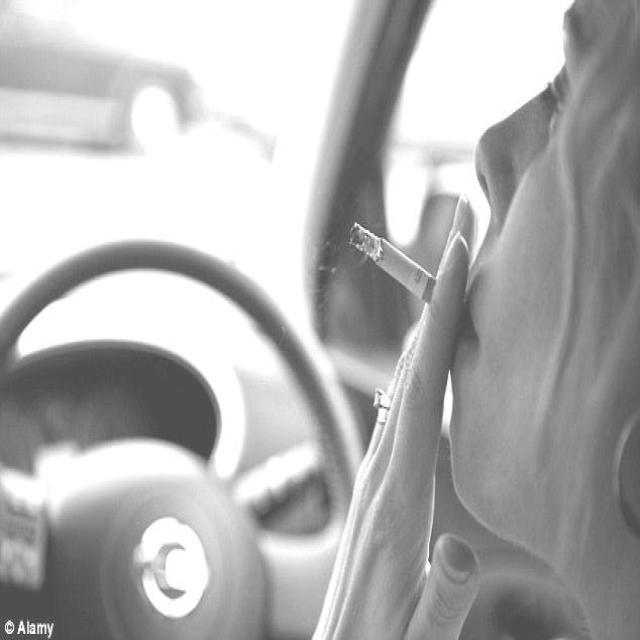Cigarette: (345, 216, 437, 311)
